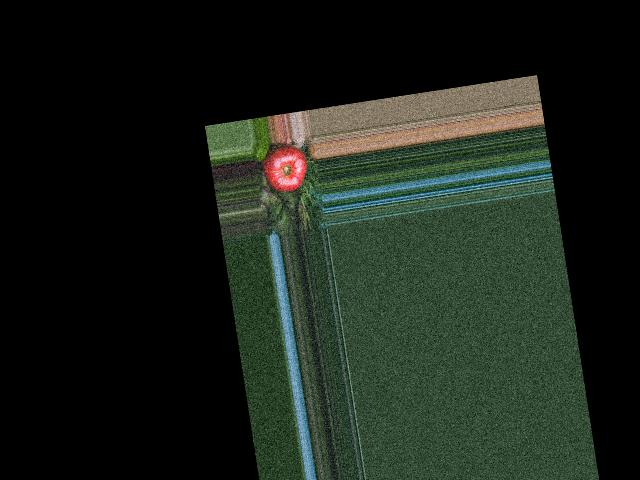tomato: (258, 140, 310, 194)
